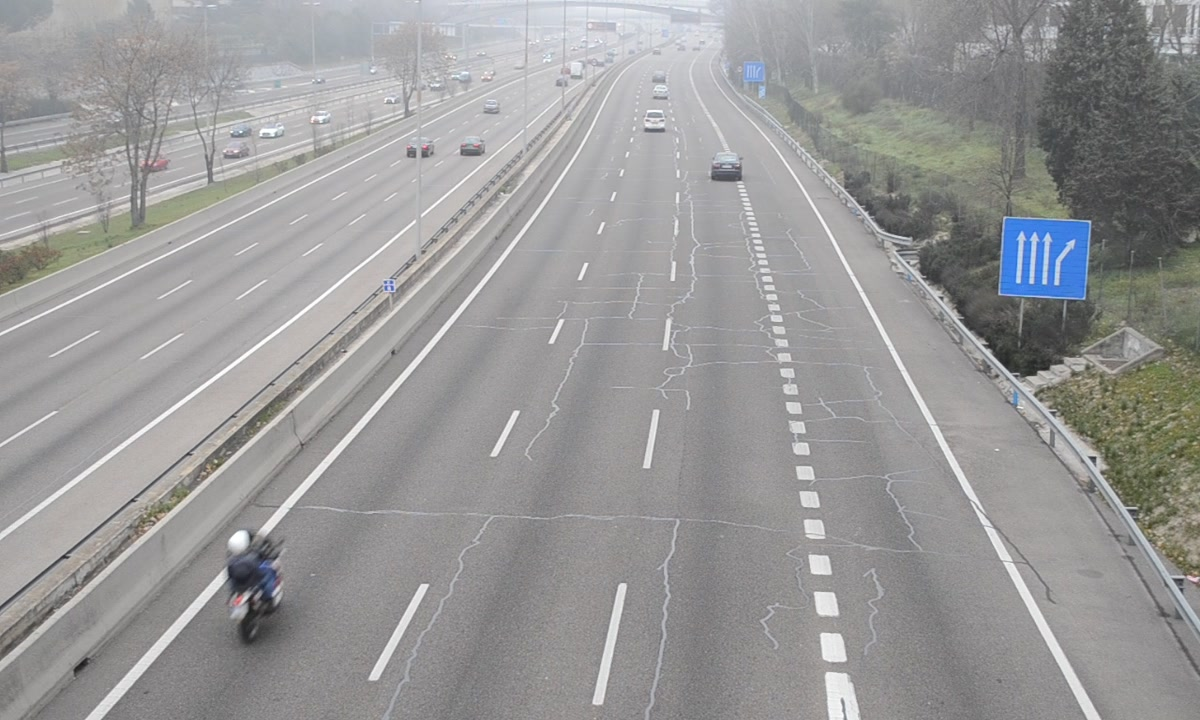car: (710, 151, 742, 181), (642, 110, 668, 134)
motorcycle: (215, 530, 285, 643)
